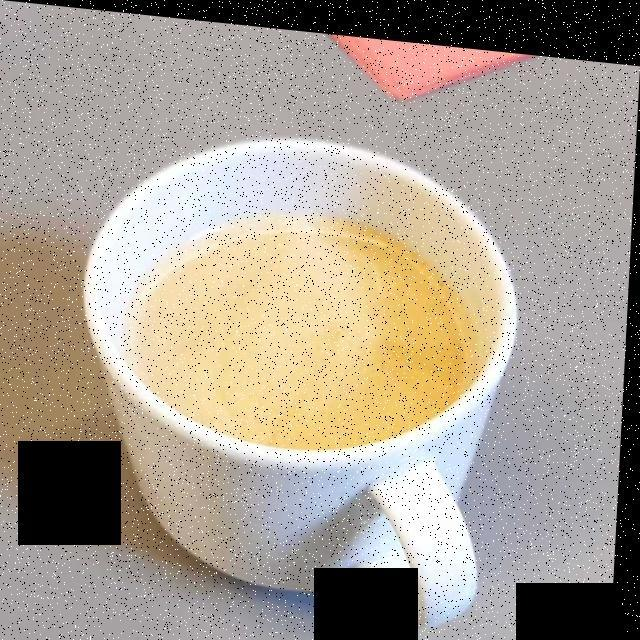drink: (144, 217, 478, 438)
